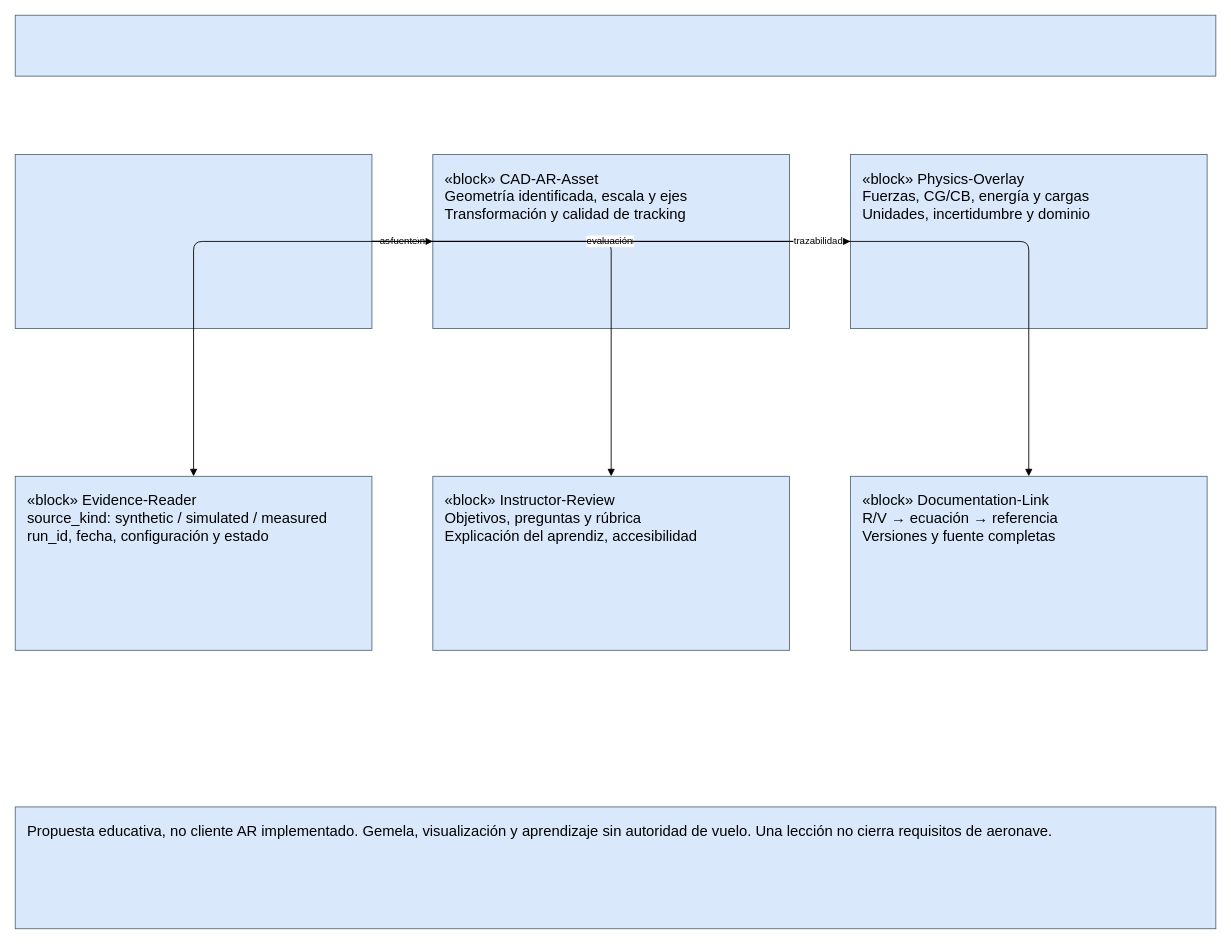
Image size: 1231x944. Some labels were removed from this diagram. Here are the shapes that lost their labels. From the top down, the centre of each, then its label:
pixel 615 45: bdd [AR] Capacitación técnica
pixel 193 241: «block» AR-Lesson concept_id, module/IF, R/V, model_id, reference_id
